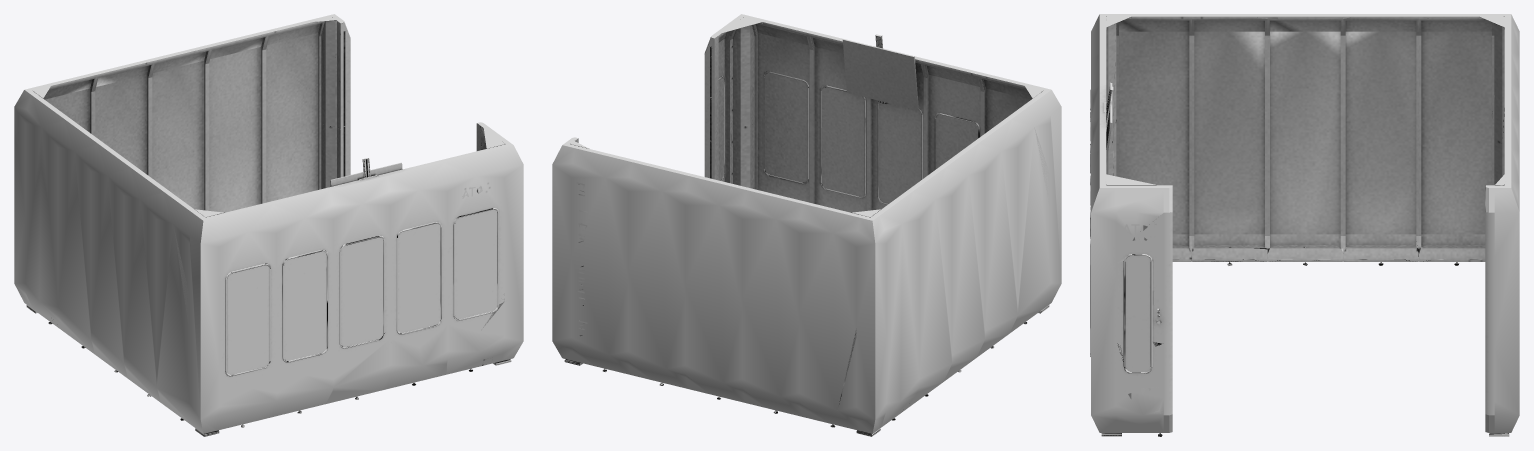
File: cadframe.fbx
The picture shows the model from 3 angles, left to right: view 1: azimuth 30°, elevation 25°; view 2: azimuth 150°, elevation 25°; view 3: azimuth 270°, elevation 25°; orthographic projection. The views are drawn at different scales.
Visible parts, largest first — view 1: Frame_dec; view 2: Frame_dec; view 3: Frame_dec.
Boxes of the visible parts, bbox=[...] form: Frame_dec: bbox=[14, 14, 523, 436]; Frame_dec: bbox=[552, 14, 1061, 436]; Frame_dec: bbox=[1090, 14, 1519, 436].
Size of the model in its own units: 430 by 295 by 426.
1 material, 1 textured.
